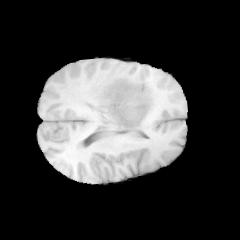glioma: (96, 78, 157, 129)
